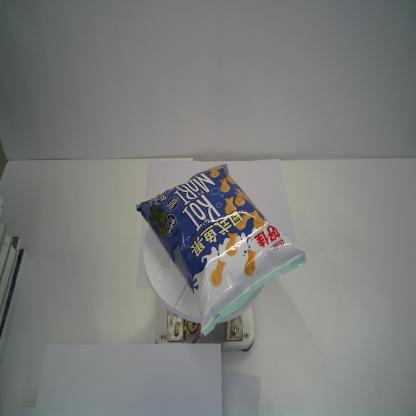Puffed Food: (136, 163, 307, 337)
